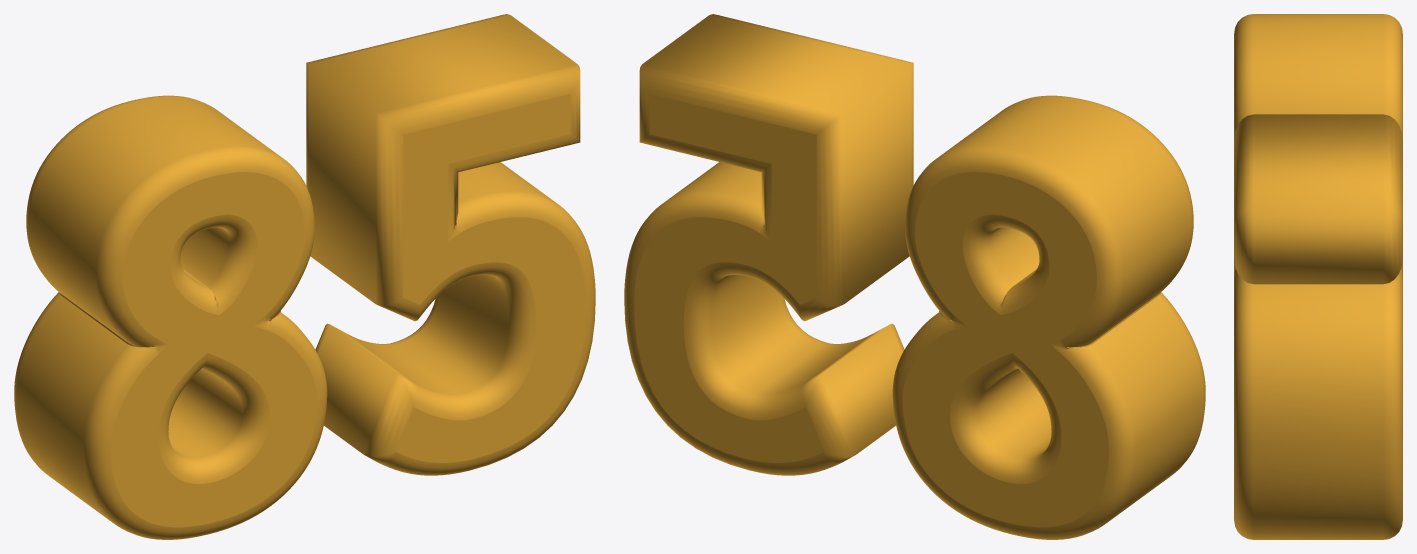
3 views of the same model, side by side, from view 1: azimuth 30°, elevation 25°; view 2: azimuth 150°, elevation 25°; view 3: azimuth 270°, elevation 25° (orthographic). The views are drawn at different scales.
Parts seen in each view (by area): view 1: Text; view 2: Text; view 3: Text.
Boxes of the visible parts, x1,y1,x2,y2 form: Text: (14, 14, 595, 539); Text: (624, 14, 1205, 539); Text: (1234, 14, 1402, 539).
Size of the model in its own units: 87.83 by 63.03 by 26.
